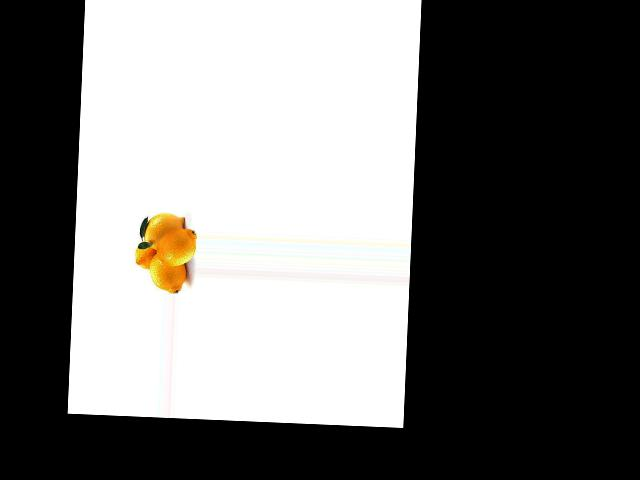lemon: (148, 251, 183, 295)
